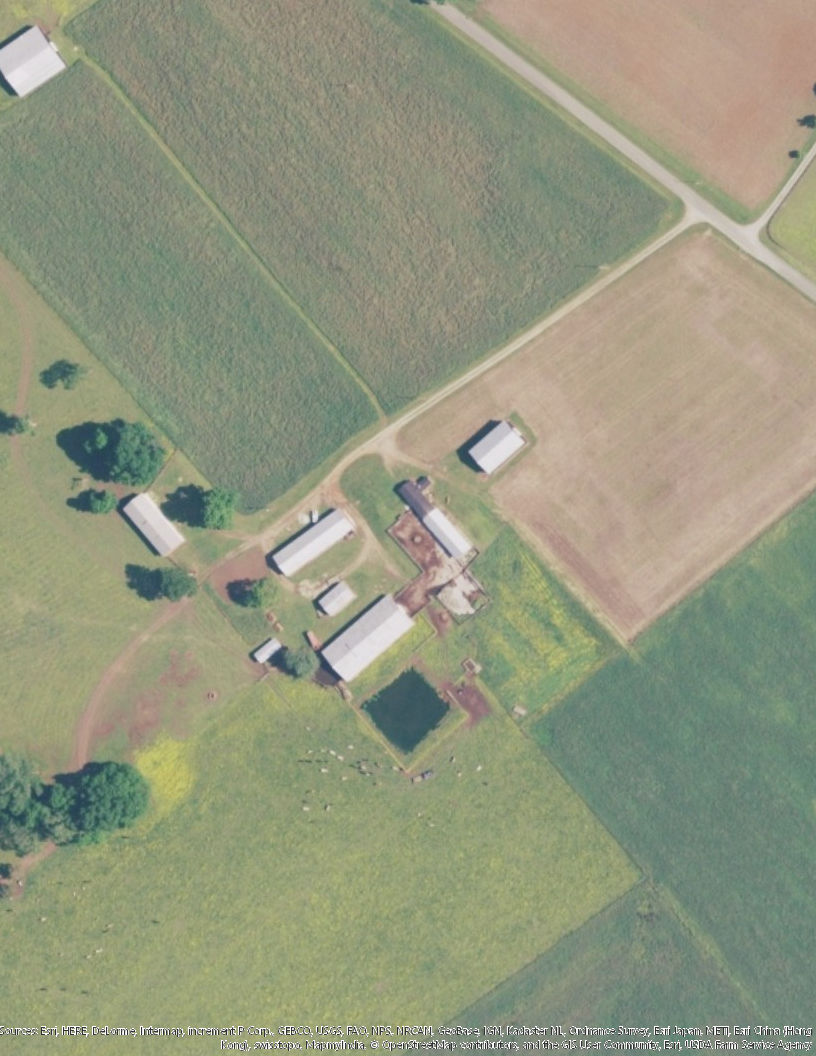cafo: (314, 585, 420, 687), (387, 478, 484, 577), (269, 498, 361, 578), (462, 416, 534, 482)
